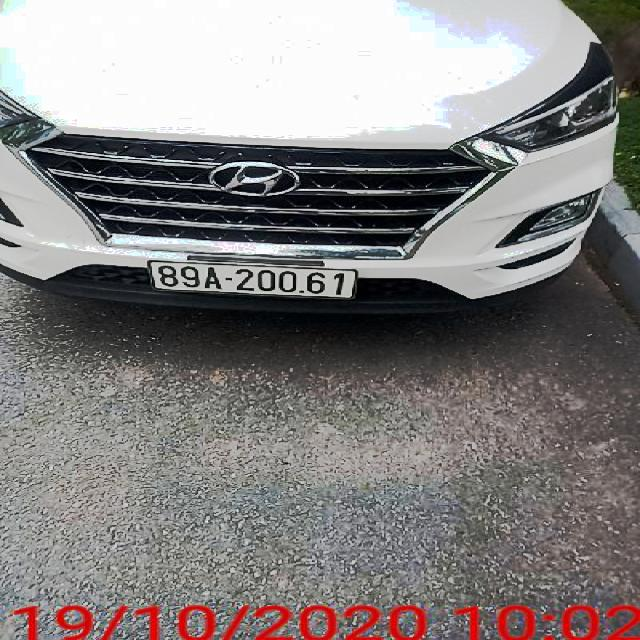license_plate: (150, 263, 355, 300)
